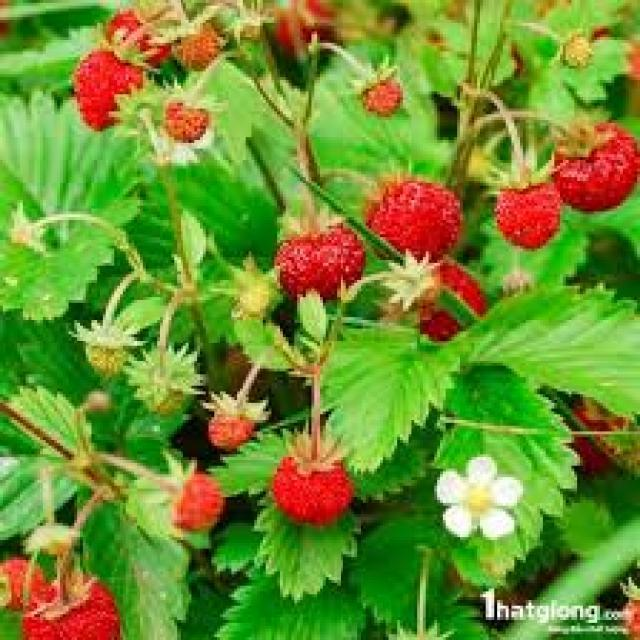Fruta sana: (261, 200, 368, 298), (544, 109, 638, 211), (369, 173, 476, 257), (391, 250, 489, 341), (486, 161, 572, 252), (23, 580, 134, 640), (282, 438, 355, 524), (160, 450, 227, 541), (75, 43, 141, 128), (100, 0, 171, 68), (198, 376, 263, 448), (275, 0, 334, 57), (9, 552, 50, 620)
